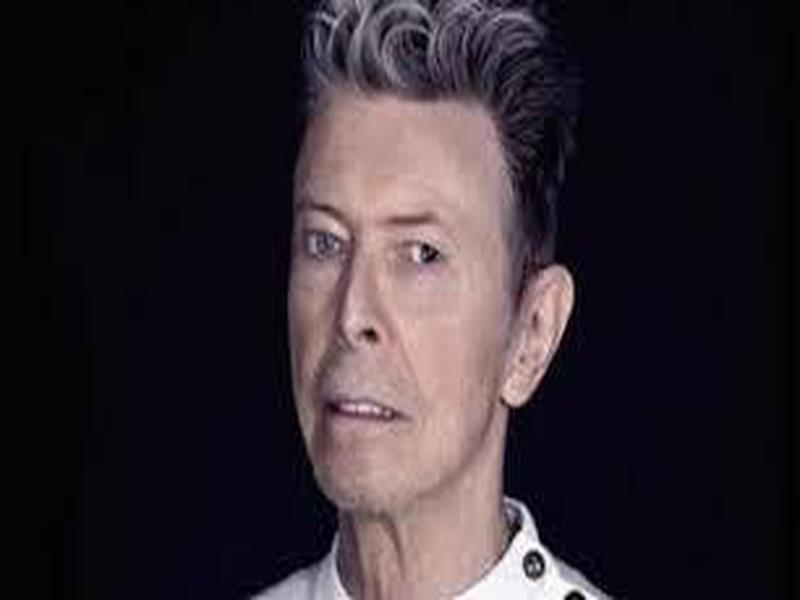without_mask: (282, 99, 510, 514)
